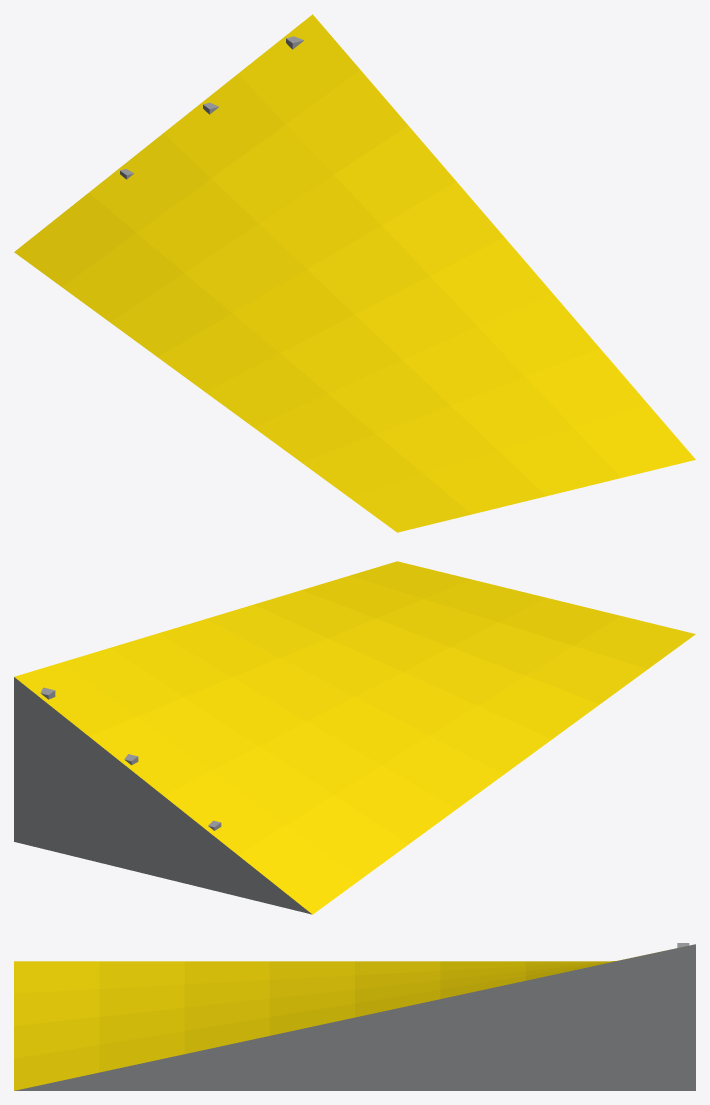
The model's file is ramp_barrel.glb.
3 renders of one model, top to bottom at view 1: azimuth 30°, elevation 25°; view 2: azimuth 150°, elevation 25°; view 3: azimuth 270°, elevation 25°, orthographic. The views are drawn at different scales.
Parts seen in each view (by area): view 1: RampBarrel; view 2: RampBarrel; view 3: RampBarrel.
Boxes of the visible parts, x1=… form: RampBarrel: x1=14, y1=14, x2=695, y2=532; RampBarrel: x1=14, y1=561, x2=695, y2=914; RampBarrel: x1=14, y1=943, x2=695, y2=1090.
Size of the model in its own units: 3.6 by 1.9 by 8.
